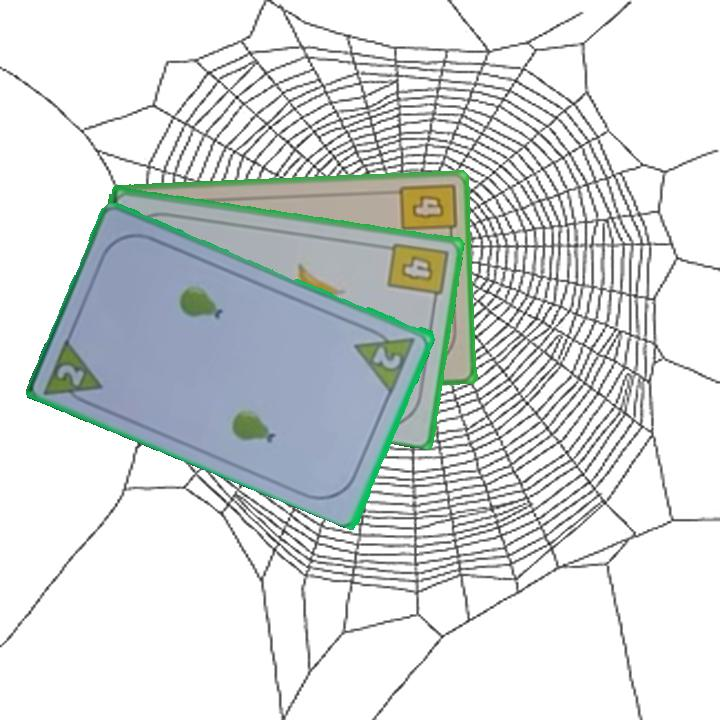2p: (41, 333, 107, 411), (351, 321, 419, 394)
4b: (384, 239, 451, 307), (396, 179, 459, 243)
